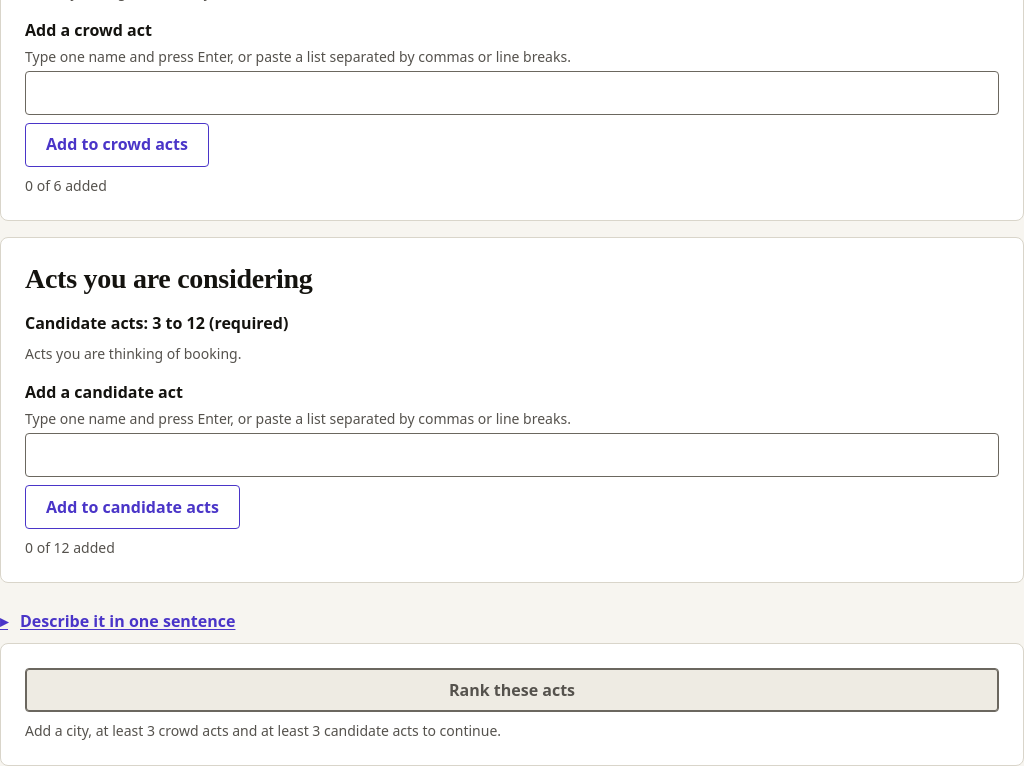
Test: one-sentence intake in the room form › an unreadable reply shows a fixed message, keeps the form usable and never shows server text
(page scrolled)
Click the heading "Describe it in one sentence" at (128, 621), box [20,610,236,632]
(page scrolled)
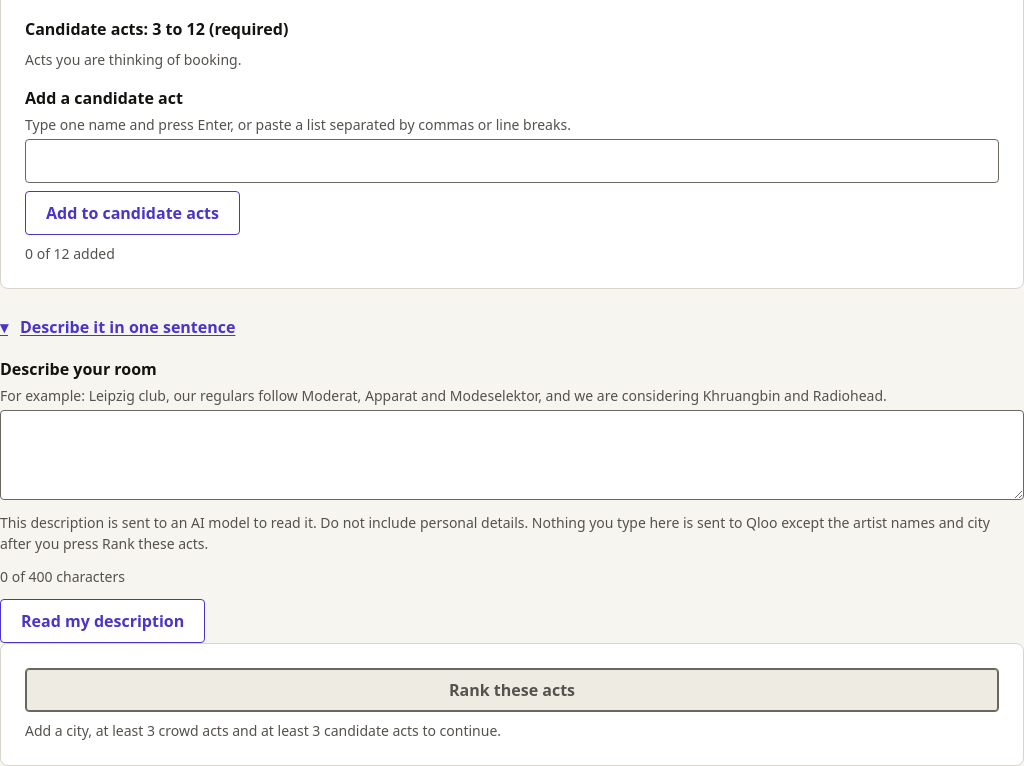
Type "Leipzig club" into the text box labelled "Describe your room" at (512, 455), box [0,410,1023,500]
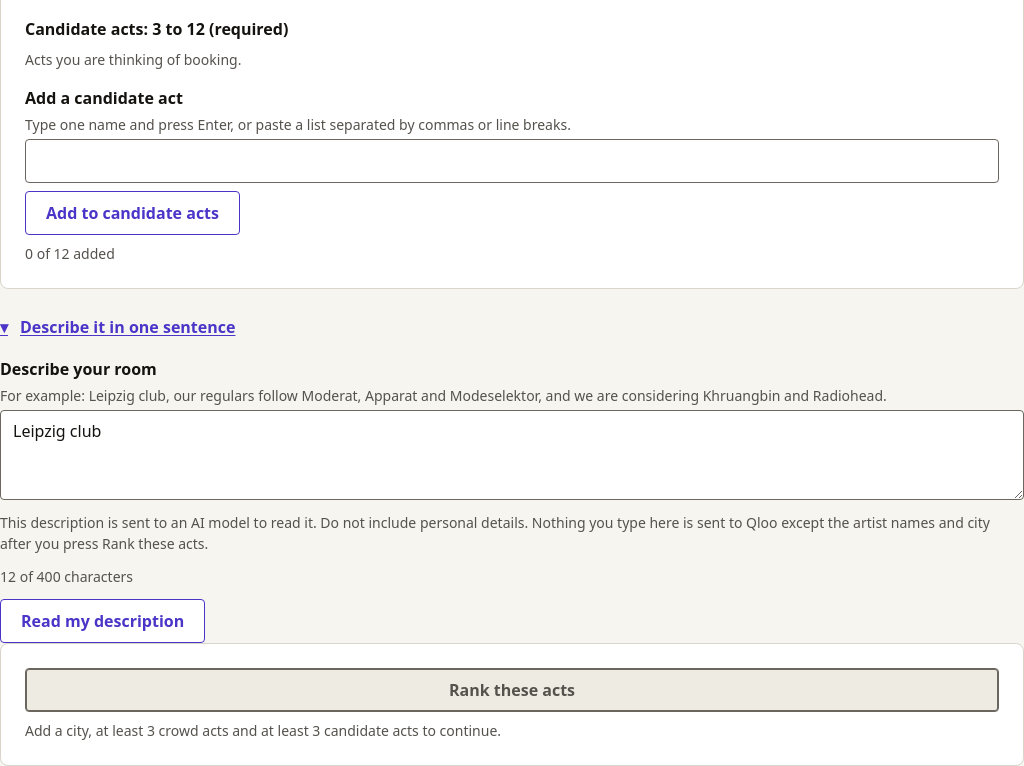
Click the button "Read my description" at (103, 621), box [0,599,205,643]
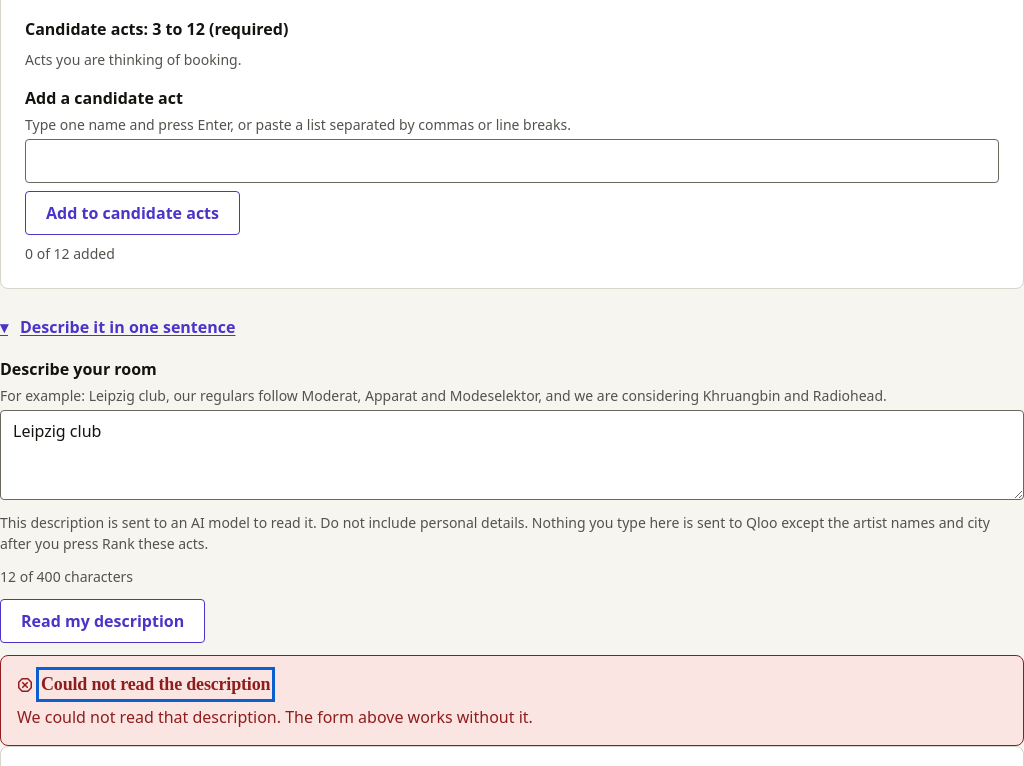
Expected: the message "Could not read the description" shows "We could not read that description. The form above works without it.", [17,706,533,728]
